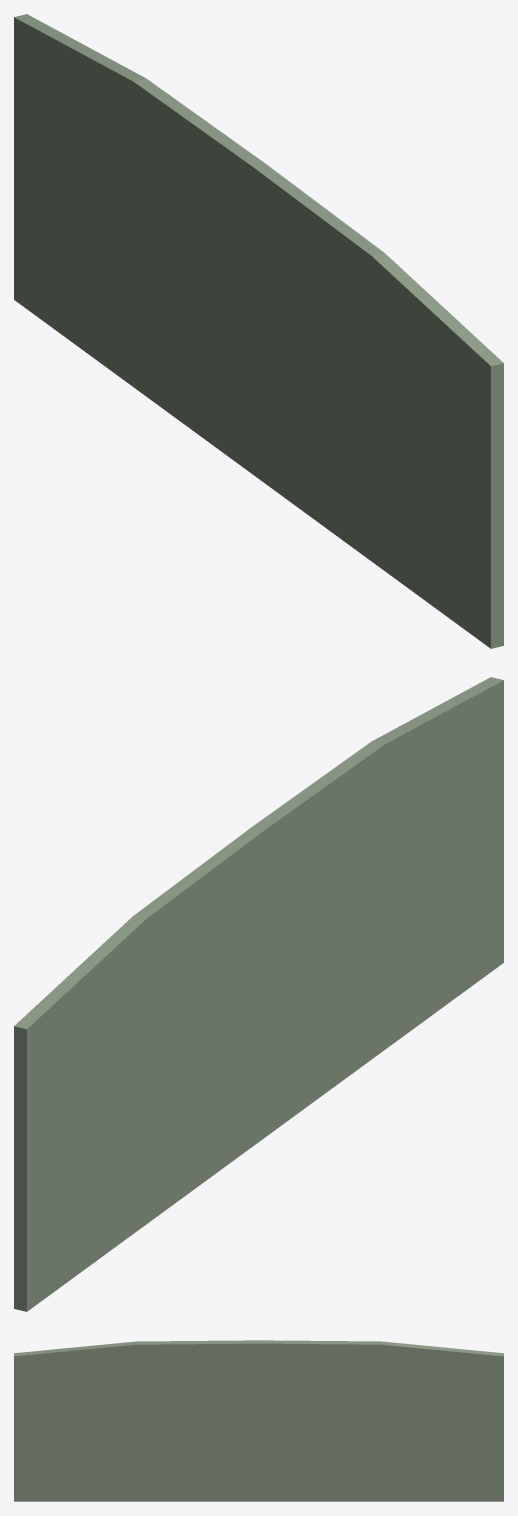
File: Wall_right.fbx
The picture shows the model from 3 angles, top to bottom: view 1: azimuth 30°, elevation 25°; view 2: azimuth 150°, elevation 25°; view 3: azimuth 270°, elevation 25°; orthographic projection. The views are drawn at different scales.
Parts seen in each view (by area): view 1: Wall_Right.001; view 2: Wall_Right.001; view 3: Wall_Right.001.
Part boxes in pixels (x1,y1,x2,y2): Wall_Right.001: (14, 14, 503, 648); Wall_Right.001: (14, 677, 503, 1311); Wall_Right.001: (14, 1340, 503, 1501).
Size of the model in its own units: 25 by 568 by 1597.
